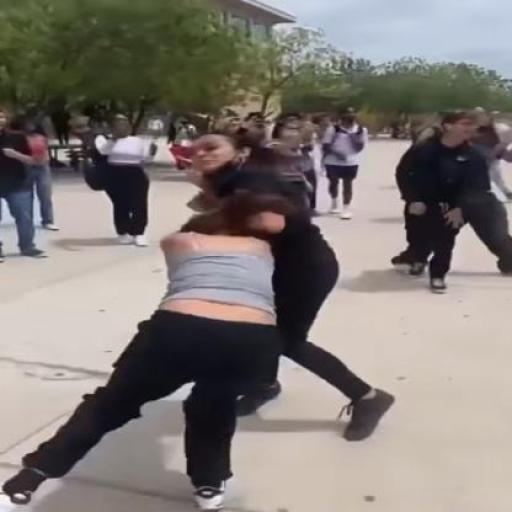Fighting: (5, 106, 397, 512)
